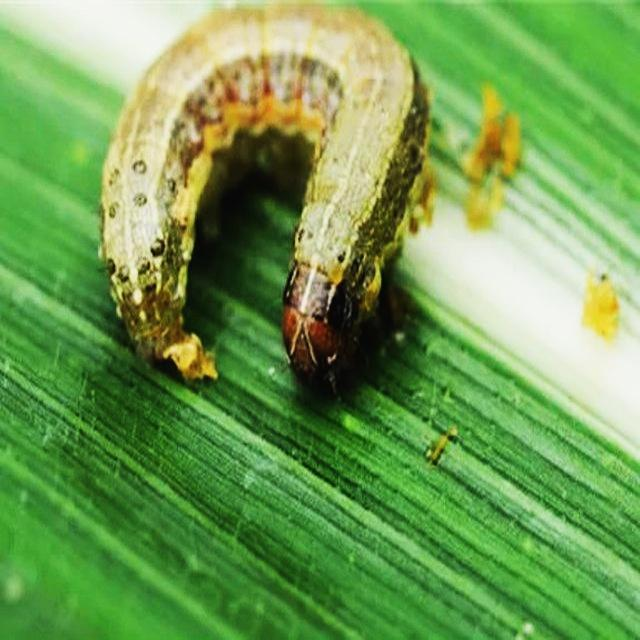gusano_cogollero: (97, 0, 440, 403)
